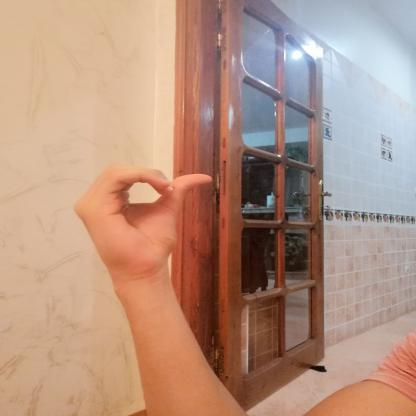WAW: (61, 155, 227, 287)
